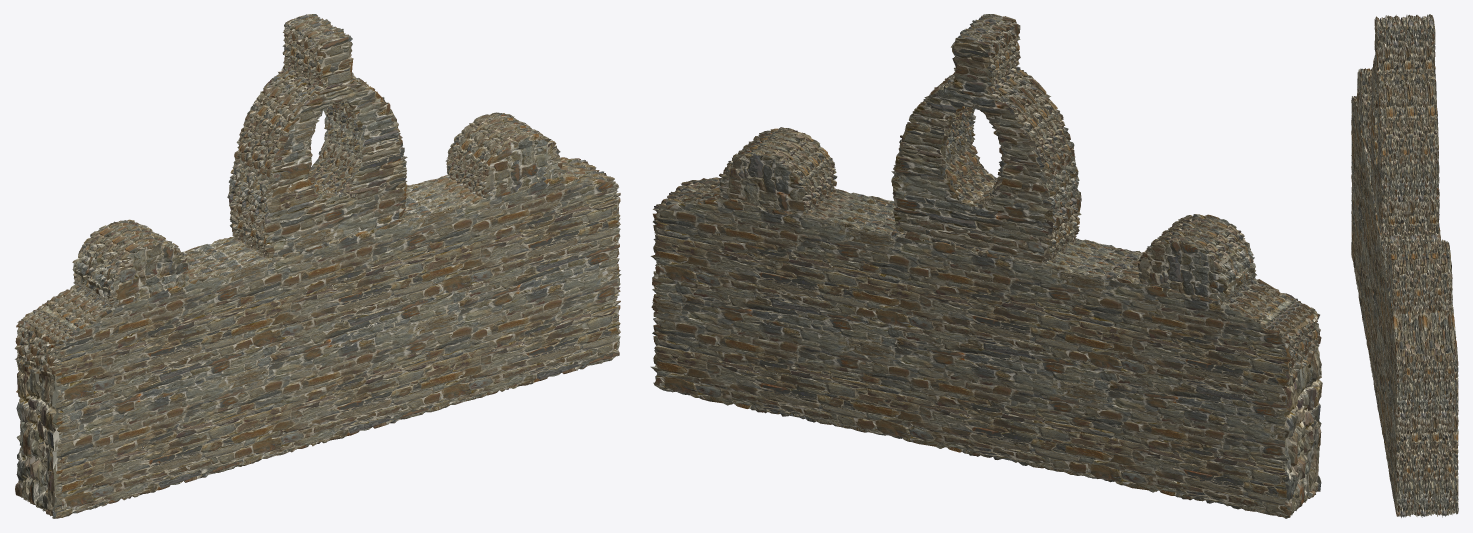
3 renders of one model, left to right at view 1: azimuth 30°, elevation 25°; view 2: azimuth 150°, elevation 25°; view 3: azimuth 270°, elevation 25°, orthographic. The views are drawn at different scales.
Visible parts, largest first — view 1: Altar.001; view 2: Altar.001; view 3: Altar.001.
Boxes of the visible parts, <box> form: Altar.001: <box>14,14,621,518</box>; Altar.001: <box>650,14,1322,518</box>; Altar.001: <box>1351,14,1458,517</box>.
Size of the model in its own units: 1.87 by 1.21 by 0.3175.
1 material, 1 textured.
